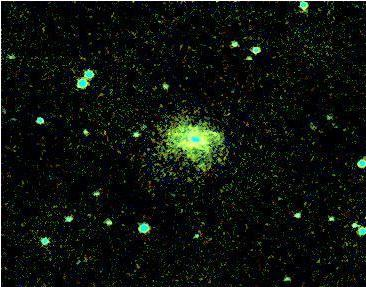star: (145, 92, 175, 122)
